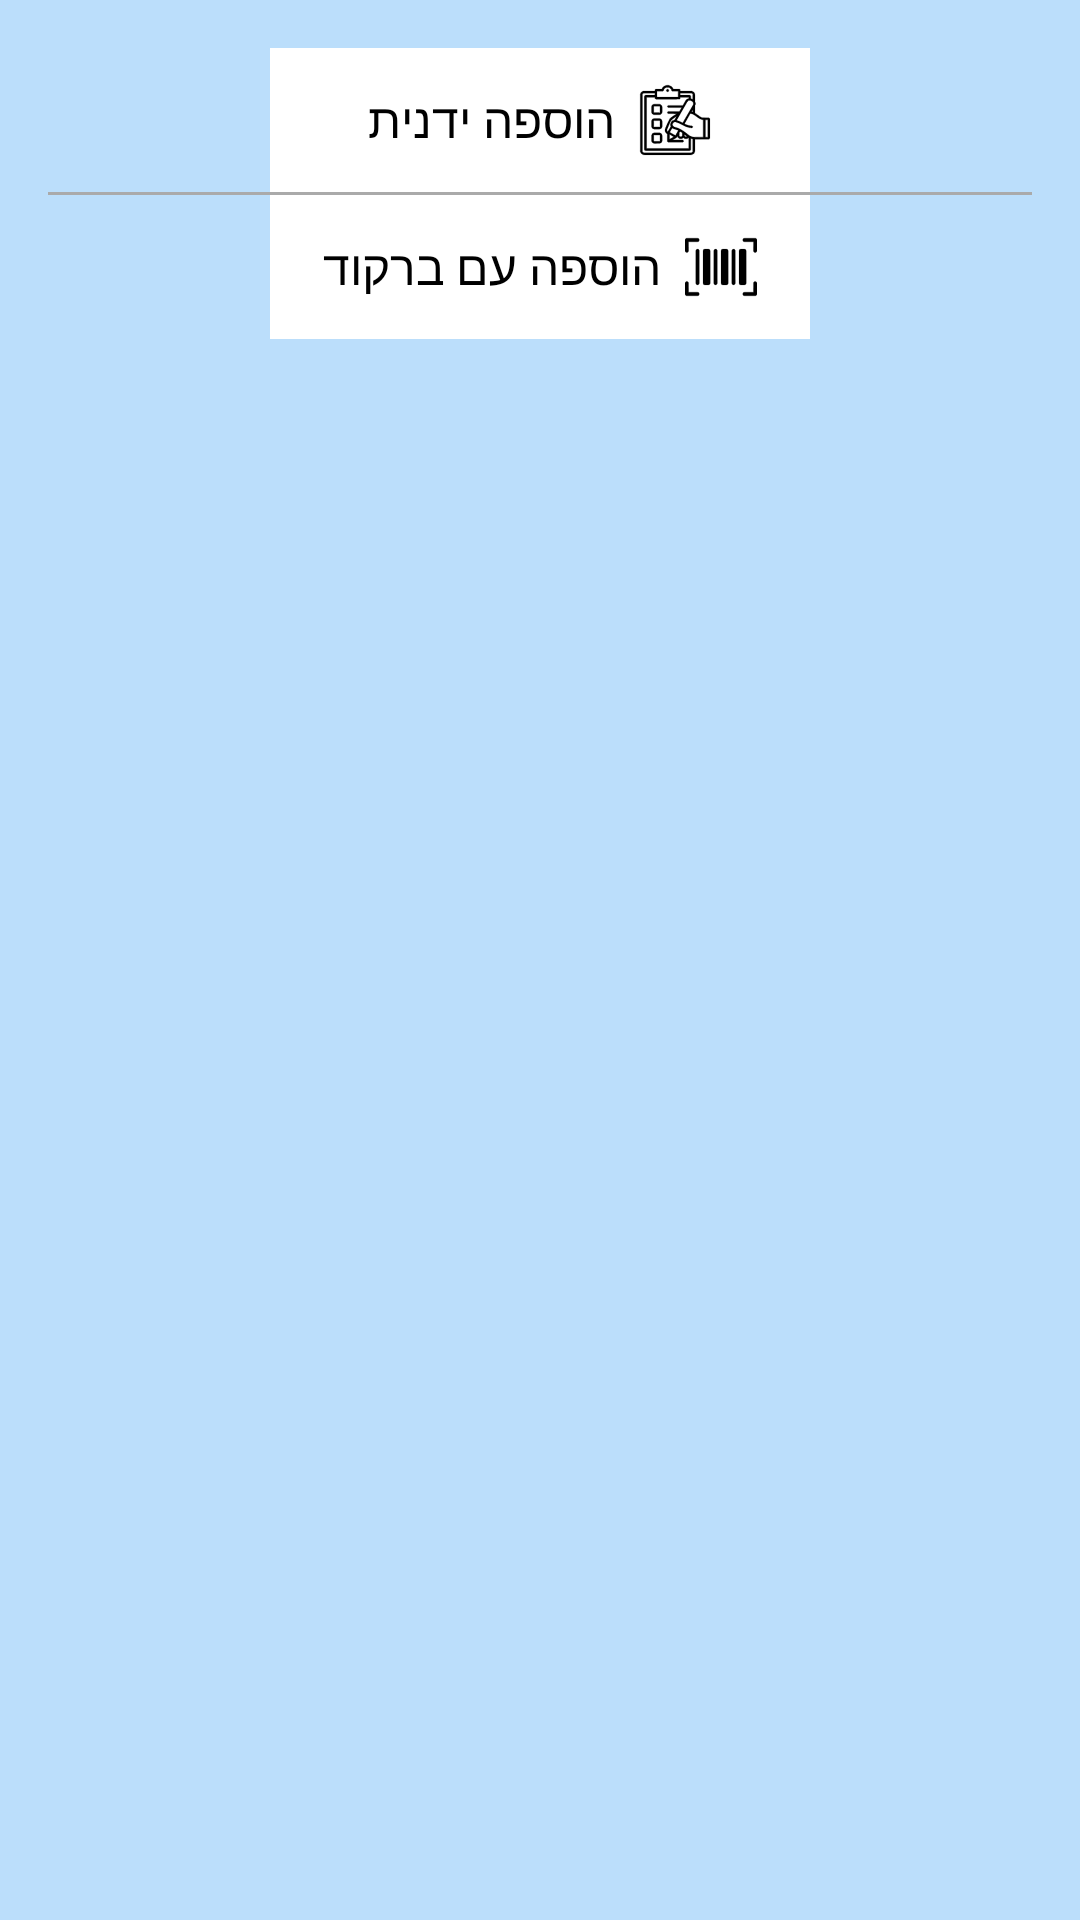

Named icons in this screenshot (1080 × 1920) and their centers, (x=x, y=y):
add barcode: (x=721, y=267)
add manually: (x=675, y=120)
